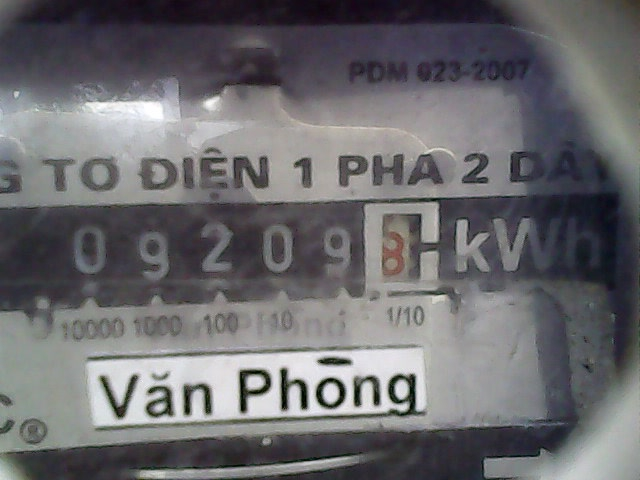phy_plate: (48, 199, 449, 299)
